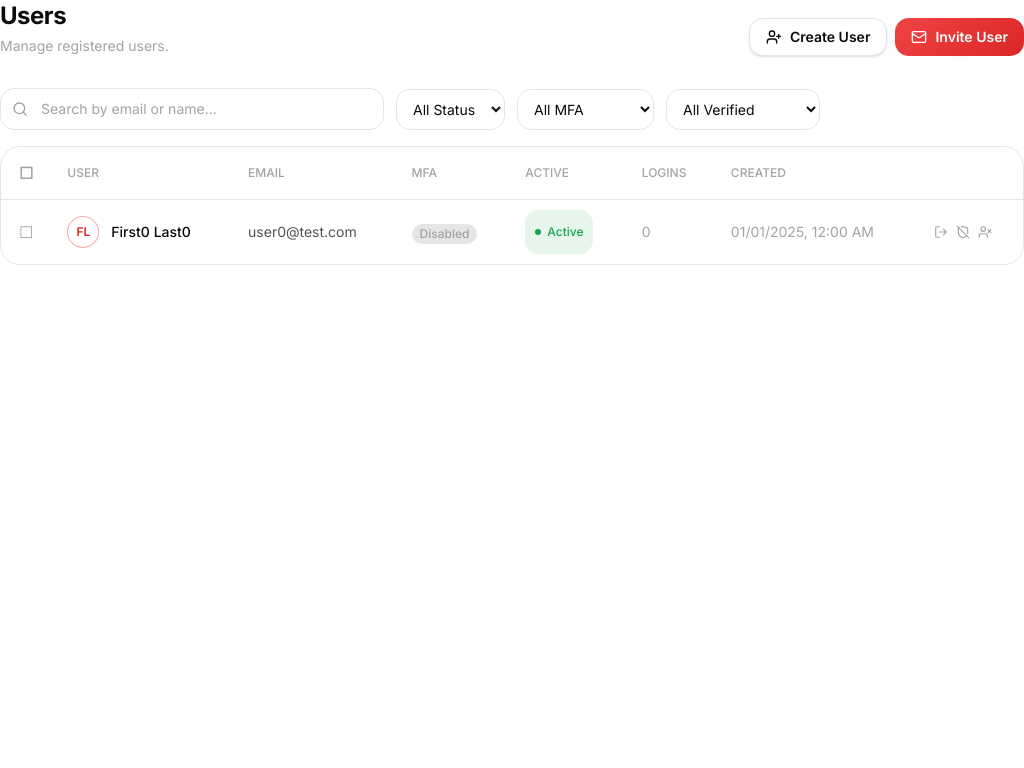
AdminUsersPage › opens user drawer on row click
The image size is (1024, 768).
Click the row with test id "user-table-row": click(83, 232) [1,200,1023,264]
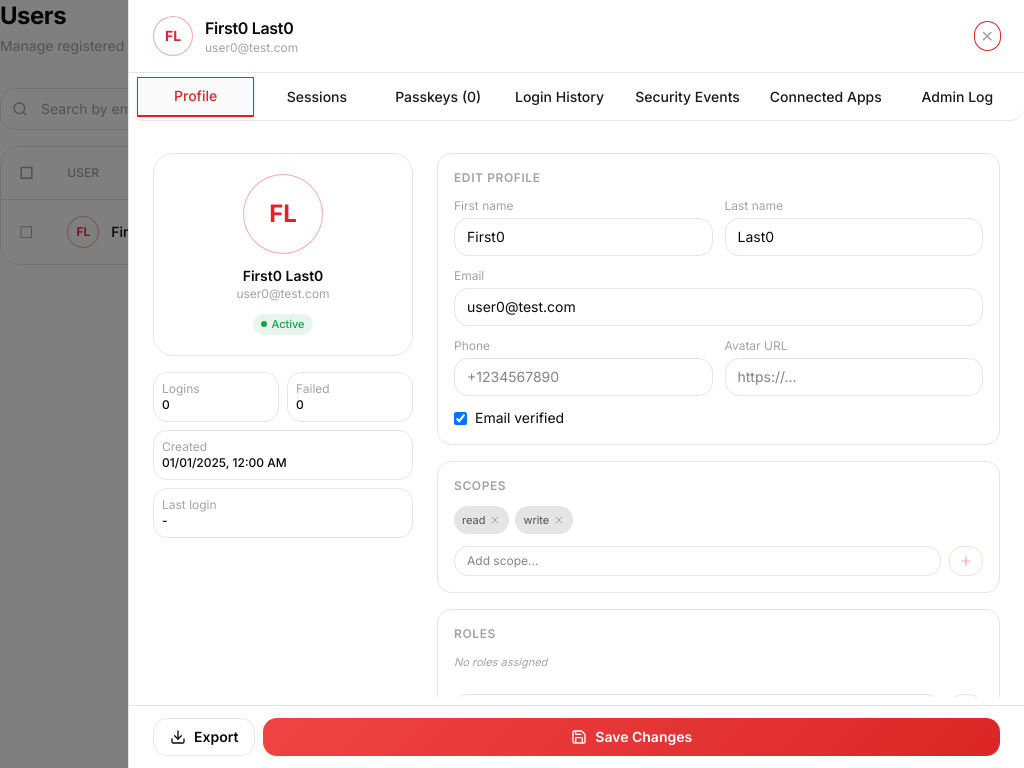
Check: the dialog with test id "user-detail-drawer" is shown
